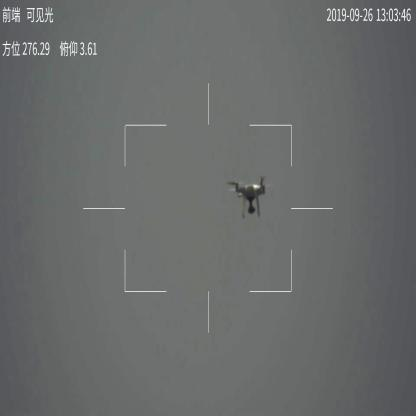uav: (230, 175, 272, 218)
